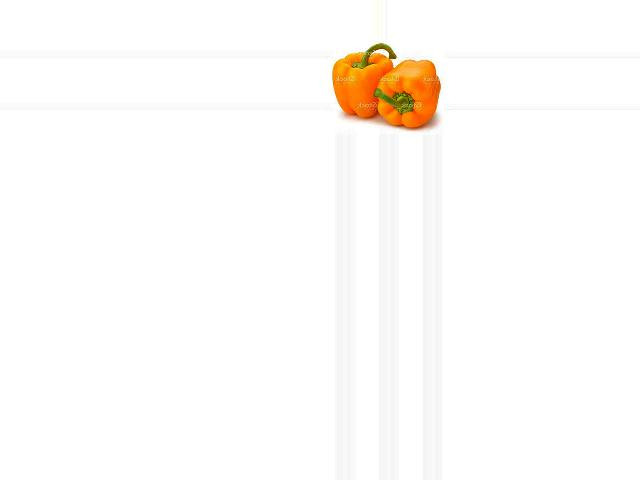bell_pepper: (331, 46, 399, 118)
